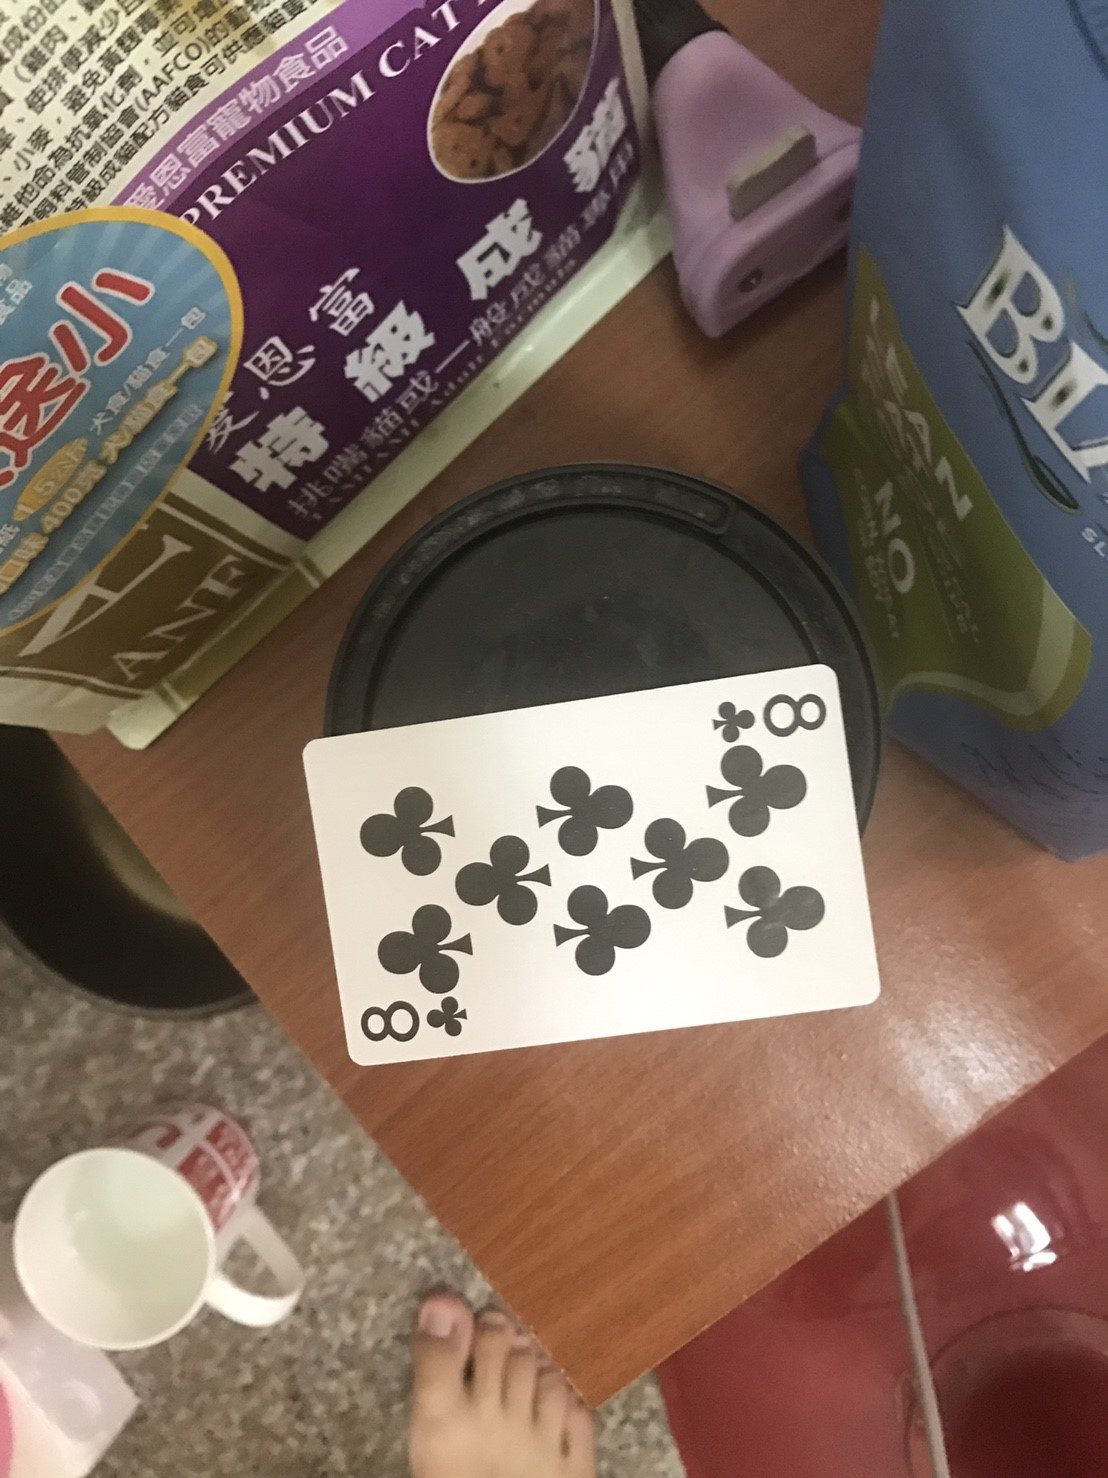clubs: (369, 897, 482, 997), (627, 813, 736, 911), (551, 883, 663, 973), (722, 868, 828, 959), (706, 749, 819, 834), (534, 762, 632, 859), (355, 781, 456, 874), (453, 837, 548, 930), (420, 999, 480, 1040), (706, 695, 753, 740)
